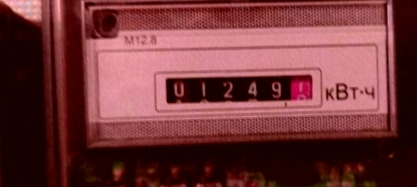0: (172, 78, 186, 98)
1: (197, 79, 208, 98)
2: (221, 79, 235, 99)
4: (246, 78, 258, 98)
7: (294, 74, 307, 94)
9: (269, 79, 283, 100)
screen: (146, 65, 322, 113)
